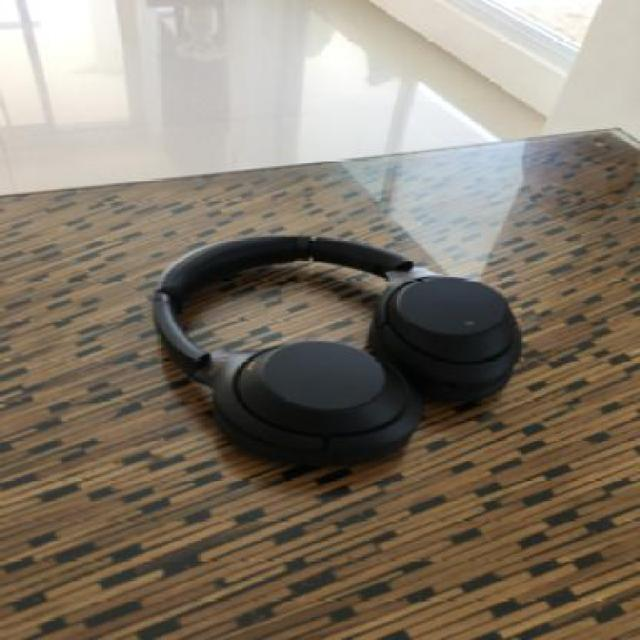earphone: (136, 126, 586, 506)
